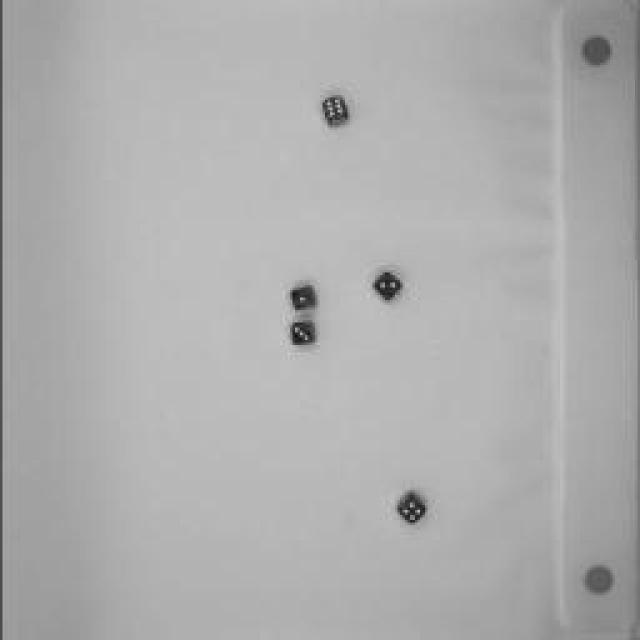dice_1: (285, 281, 320, 314)
dice_2: (369, 270, 406, 308)
dice_3: (284, 318, 318, 352)
dice_4: (391, 489, 429, 526)
dice_6: (315, 94, 350, 128)
